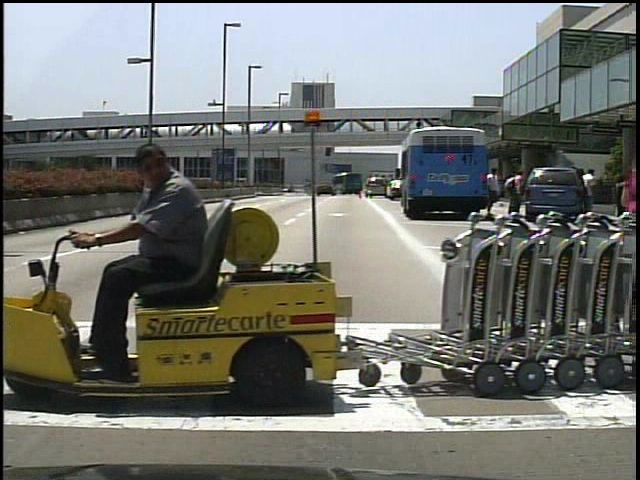person: (100, 138, 217, 378), (600, 119, 637, 350), (481, 164, 504, 216), (506, 166, 526, 219), (580, 165, 601, 214)
